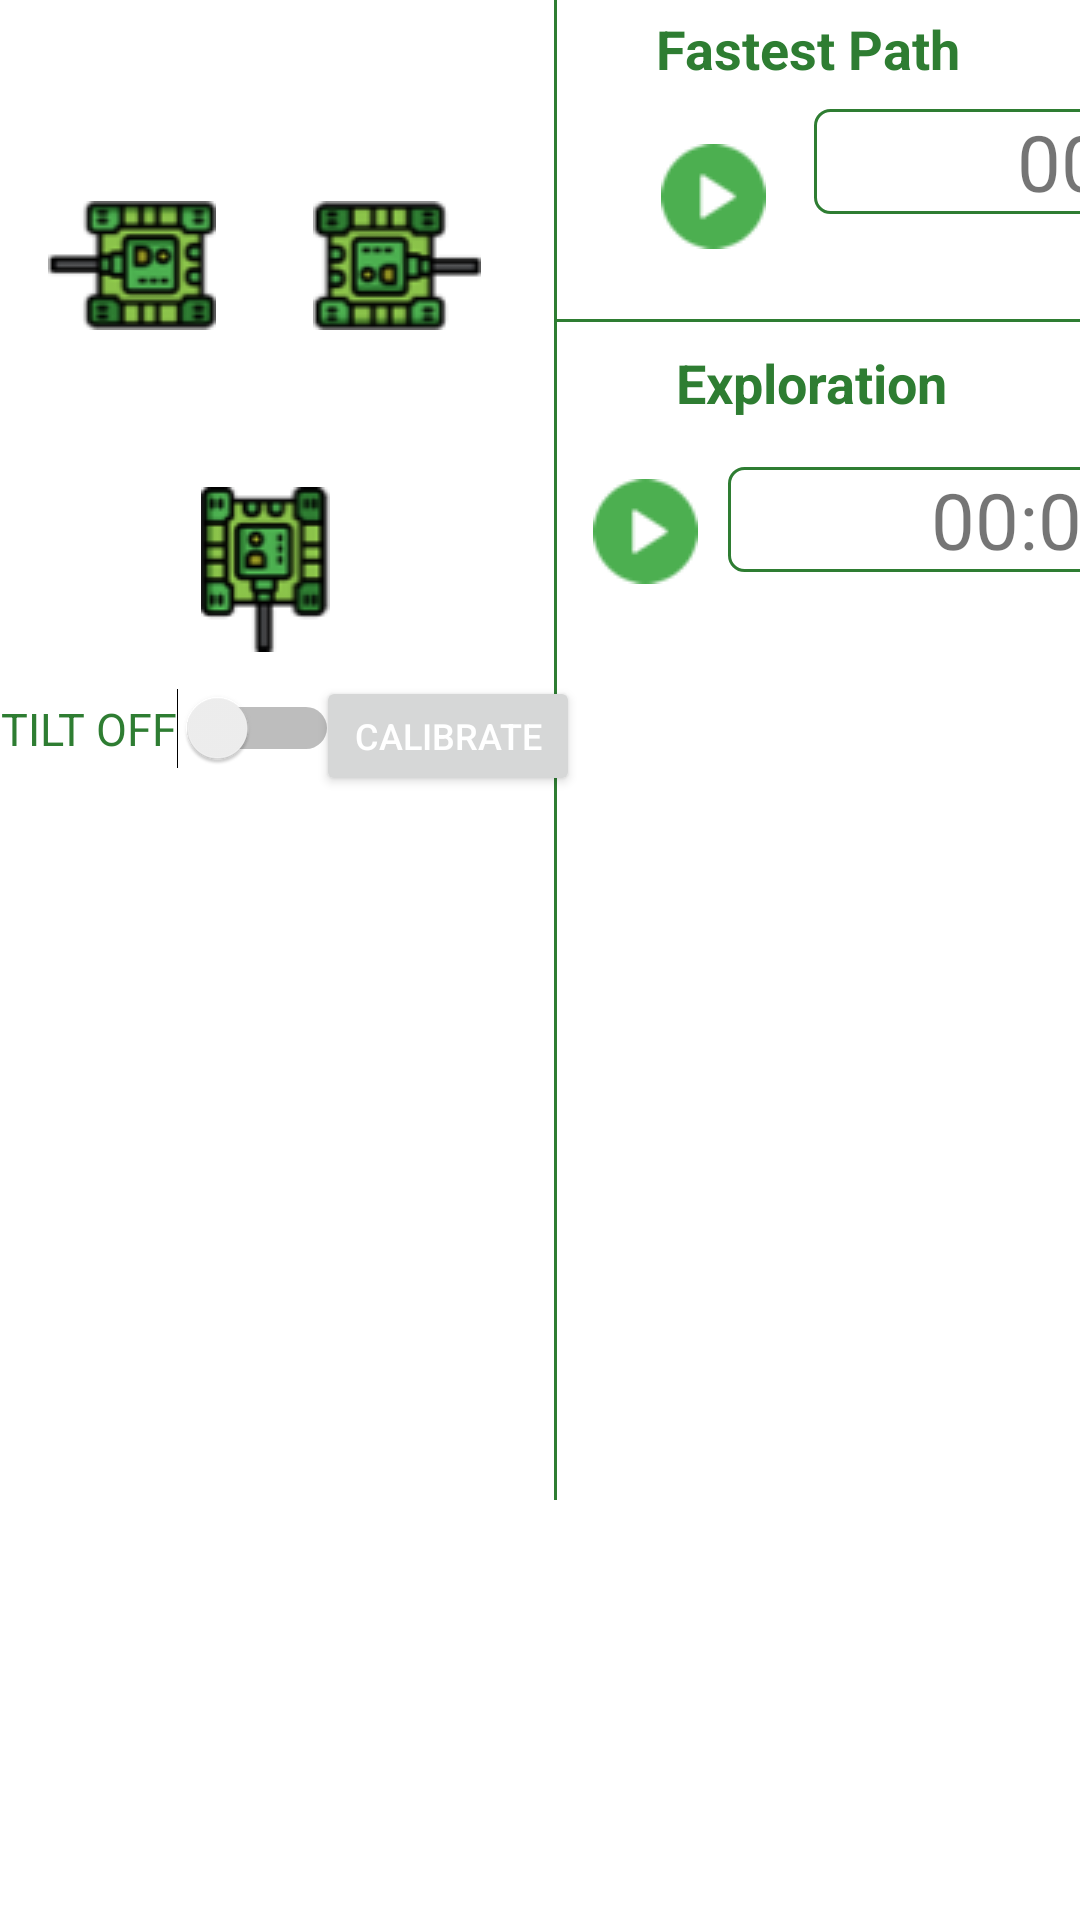

Where icons sit on this 1080x1920 app screen, as {"left": x1, "top": y1, "right": x2, "bottom": y2}:
tankdown: {"left": 201, "top": 487, "right": 330, "bottom": 652}
tankleft: {"left": 48, "top": 201, "right": 216, "bottom": 330}
tankright: {"left": 313, "top": 201, "right": 481, "bottom": 330}
